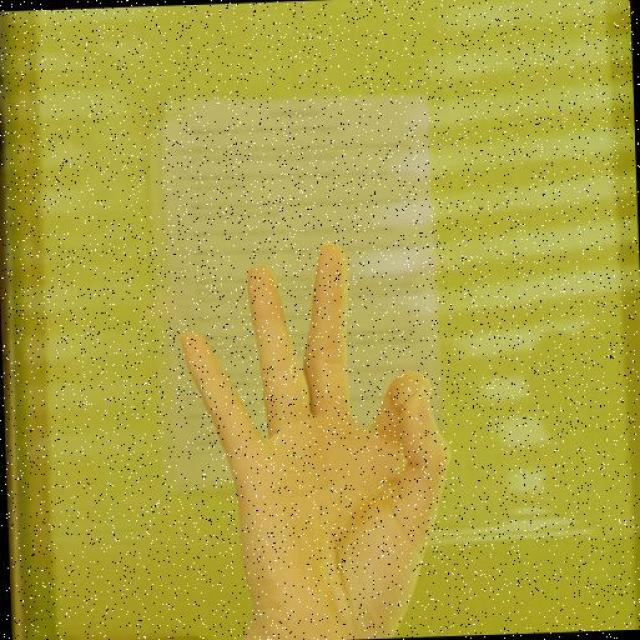F: (172, 231, 459, 640)
